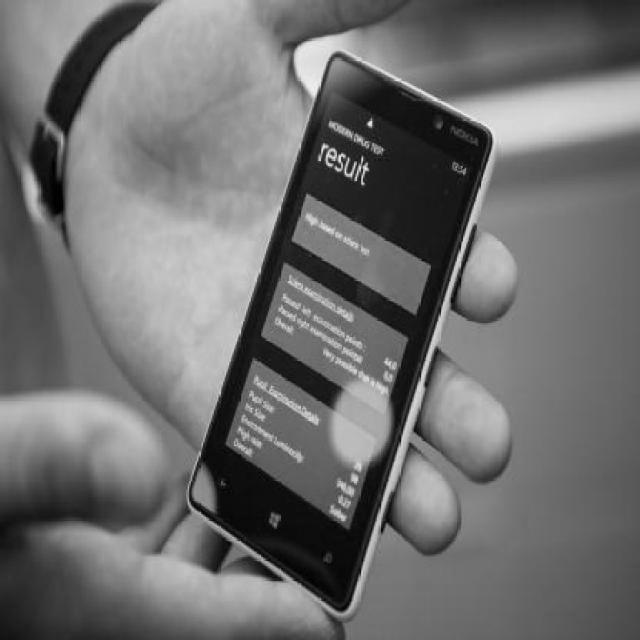fake: (186, 46, 500, 625)
